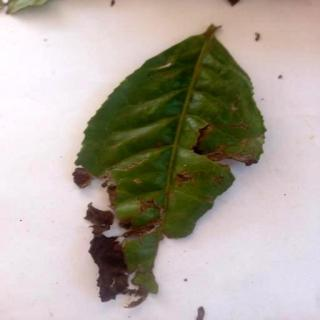Brown Blight: (73, 25, 267, 307)
